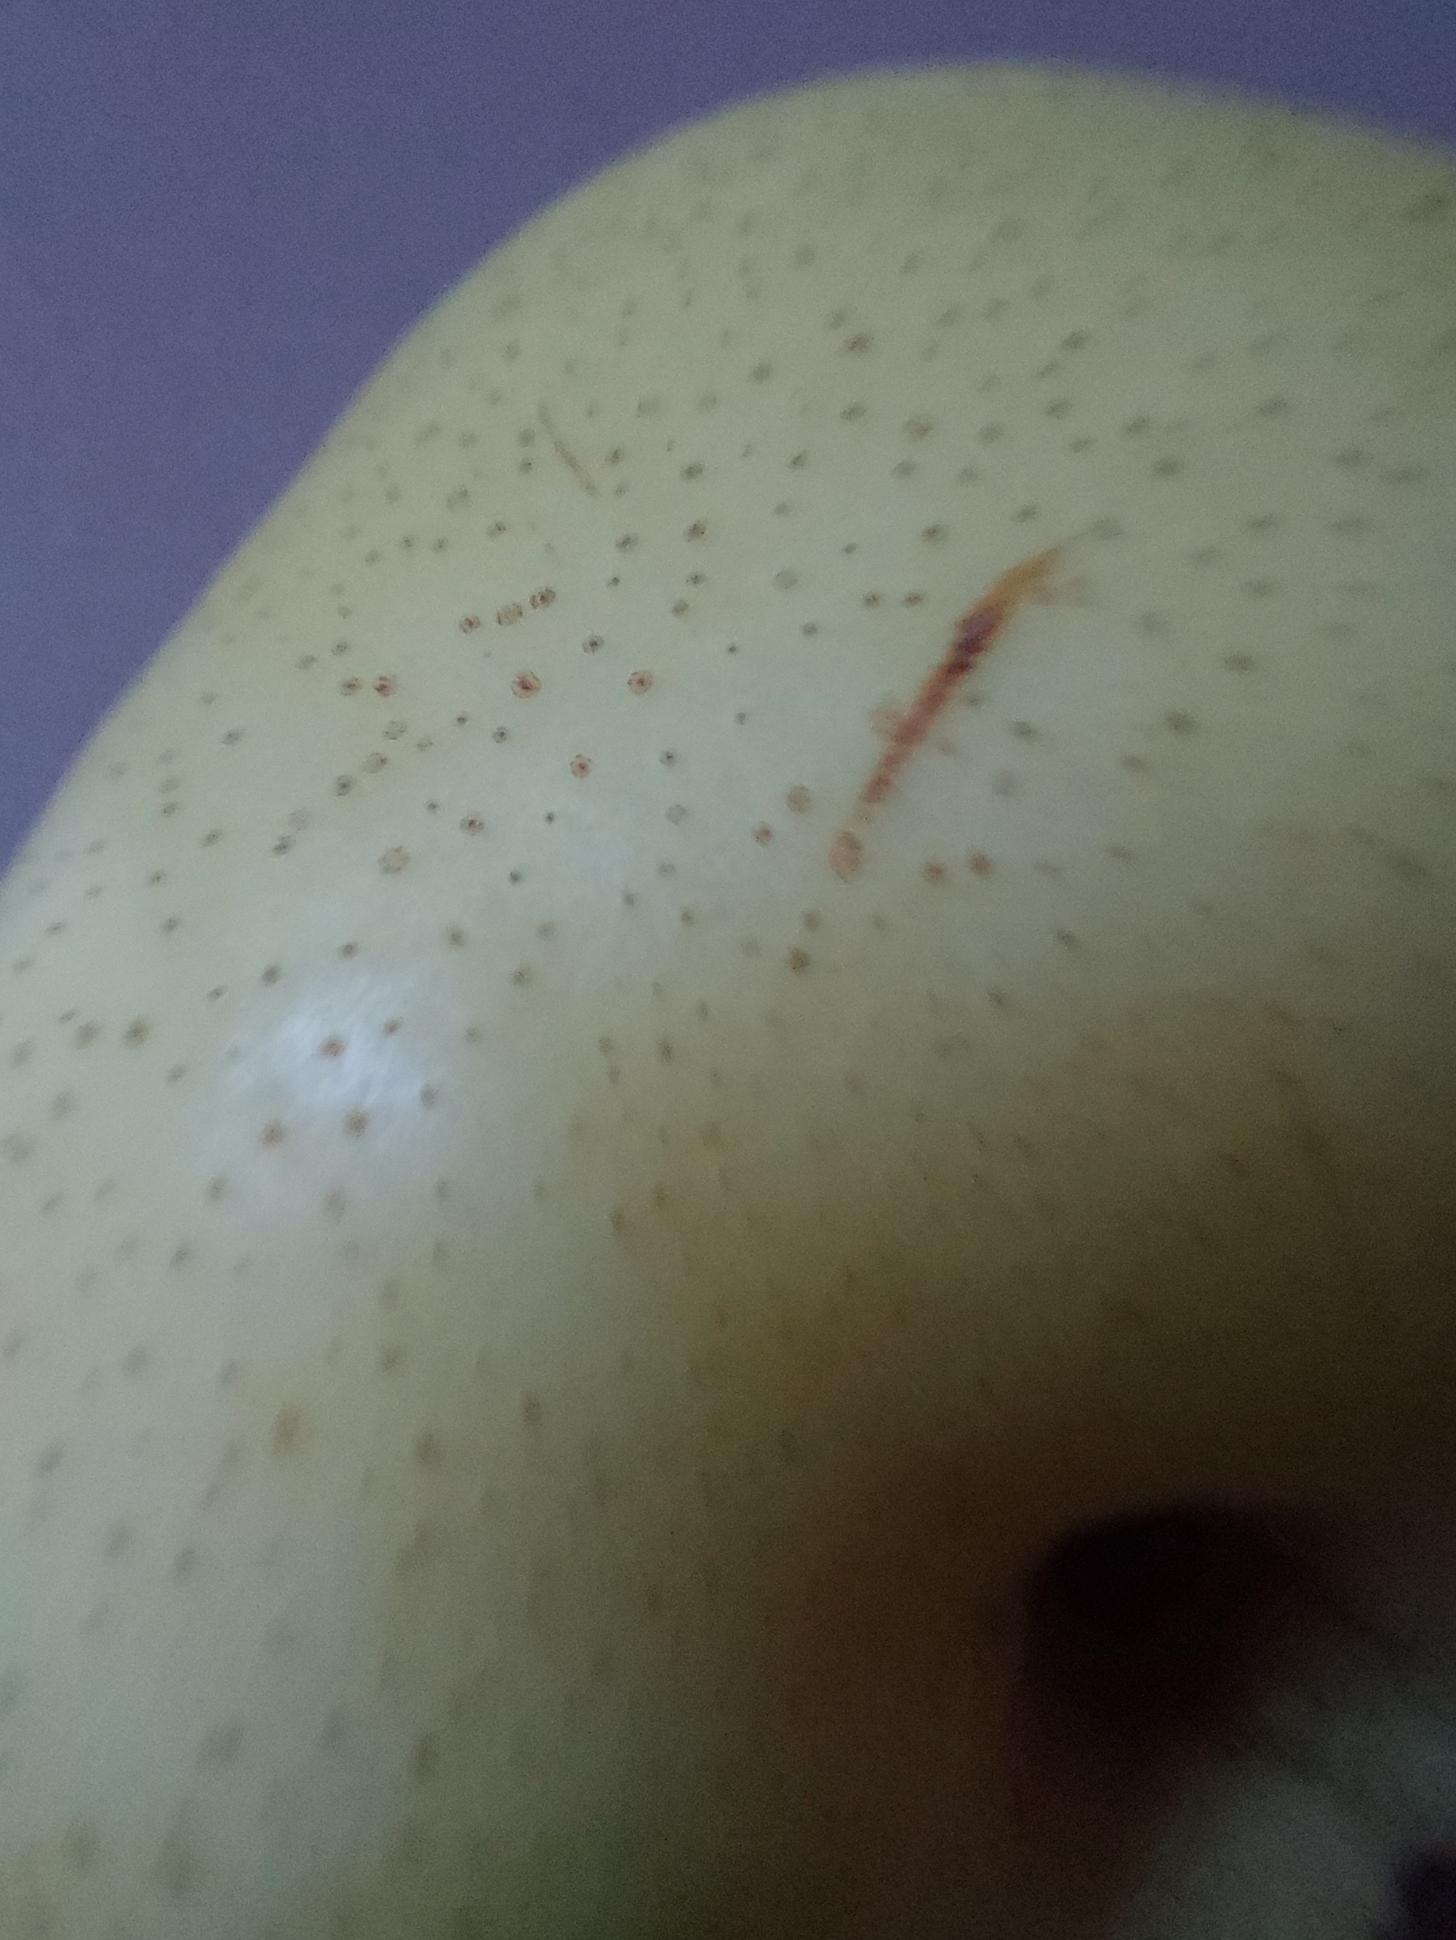Good Pear: (0, 70, 1456, 1940)
